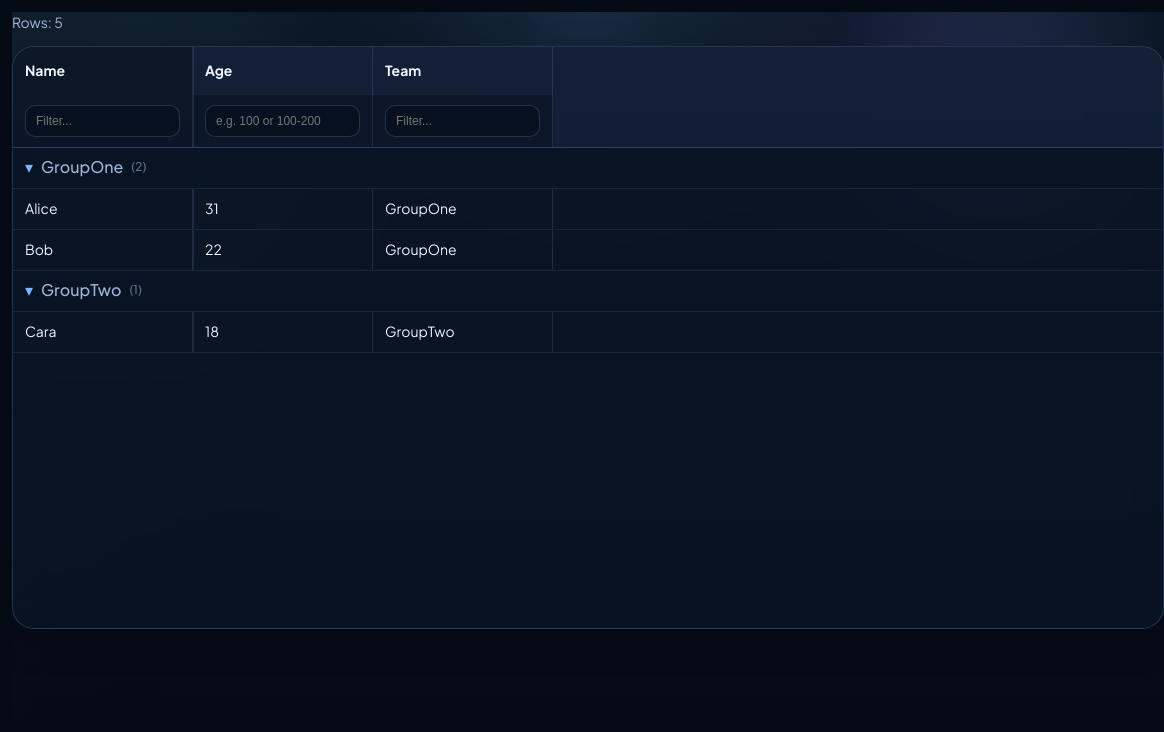
Scenario: DataGrid advanced coverage › supports grouping collapse and expand
The width and height of the screenshot is (1164, 732).
Expected: the text "Alice" is shown, [25, 198, 58, 220]
Click the element showing "▾ GroupOne (2)" at (588, 168), box [13, 148, 1163, 189]
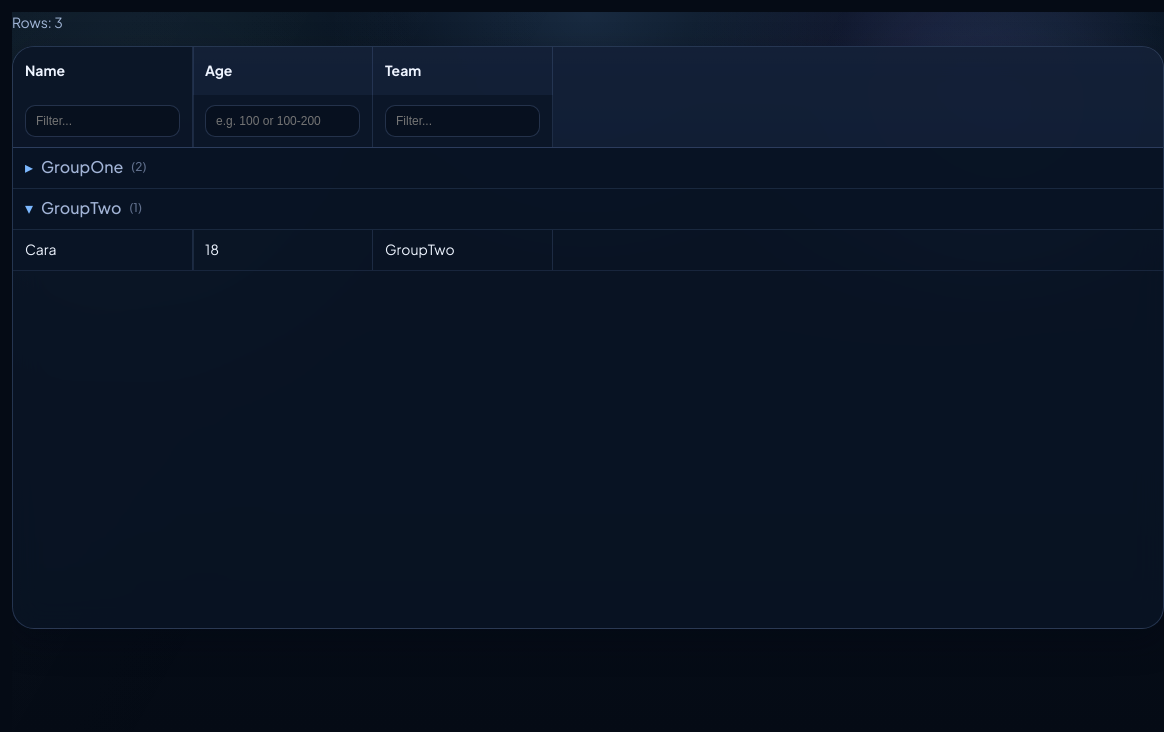
Expected: the text "Alice" is gone
Click the element showing "▸ GroupOne (2)" at (588, 168), box [13, 148, 1163, 189]
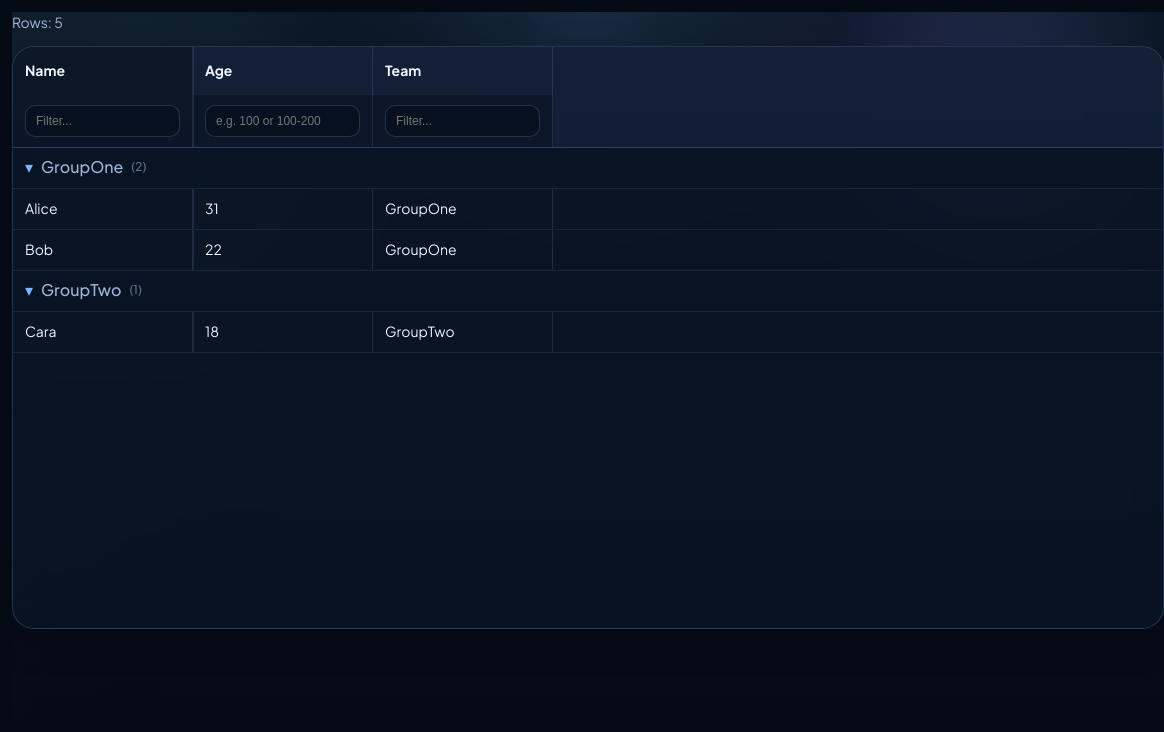
Expected: the text "Alice" is shown, [25, 198, 58, 220]
